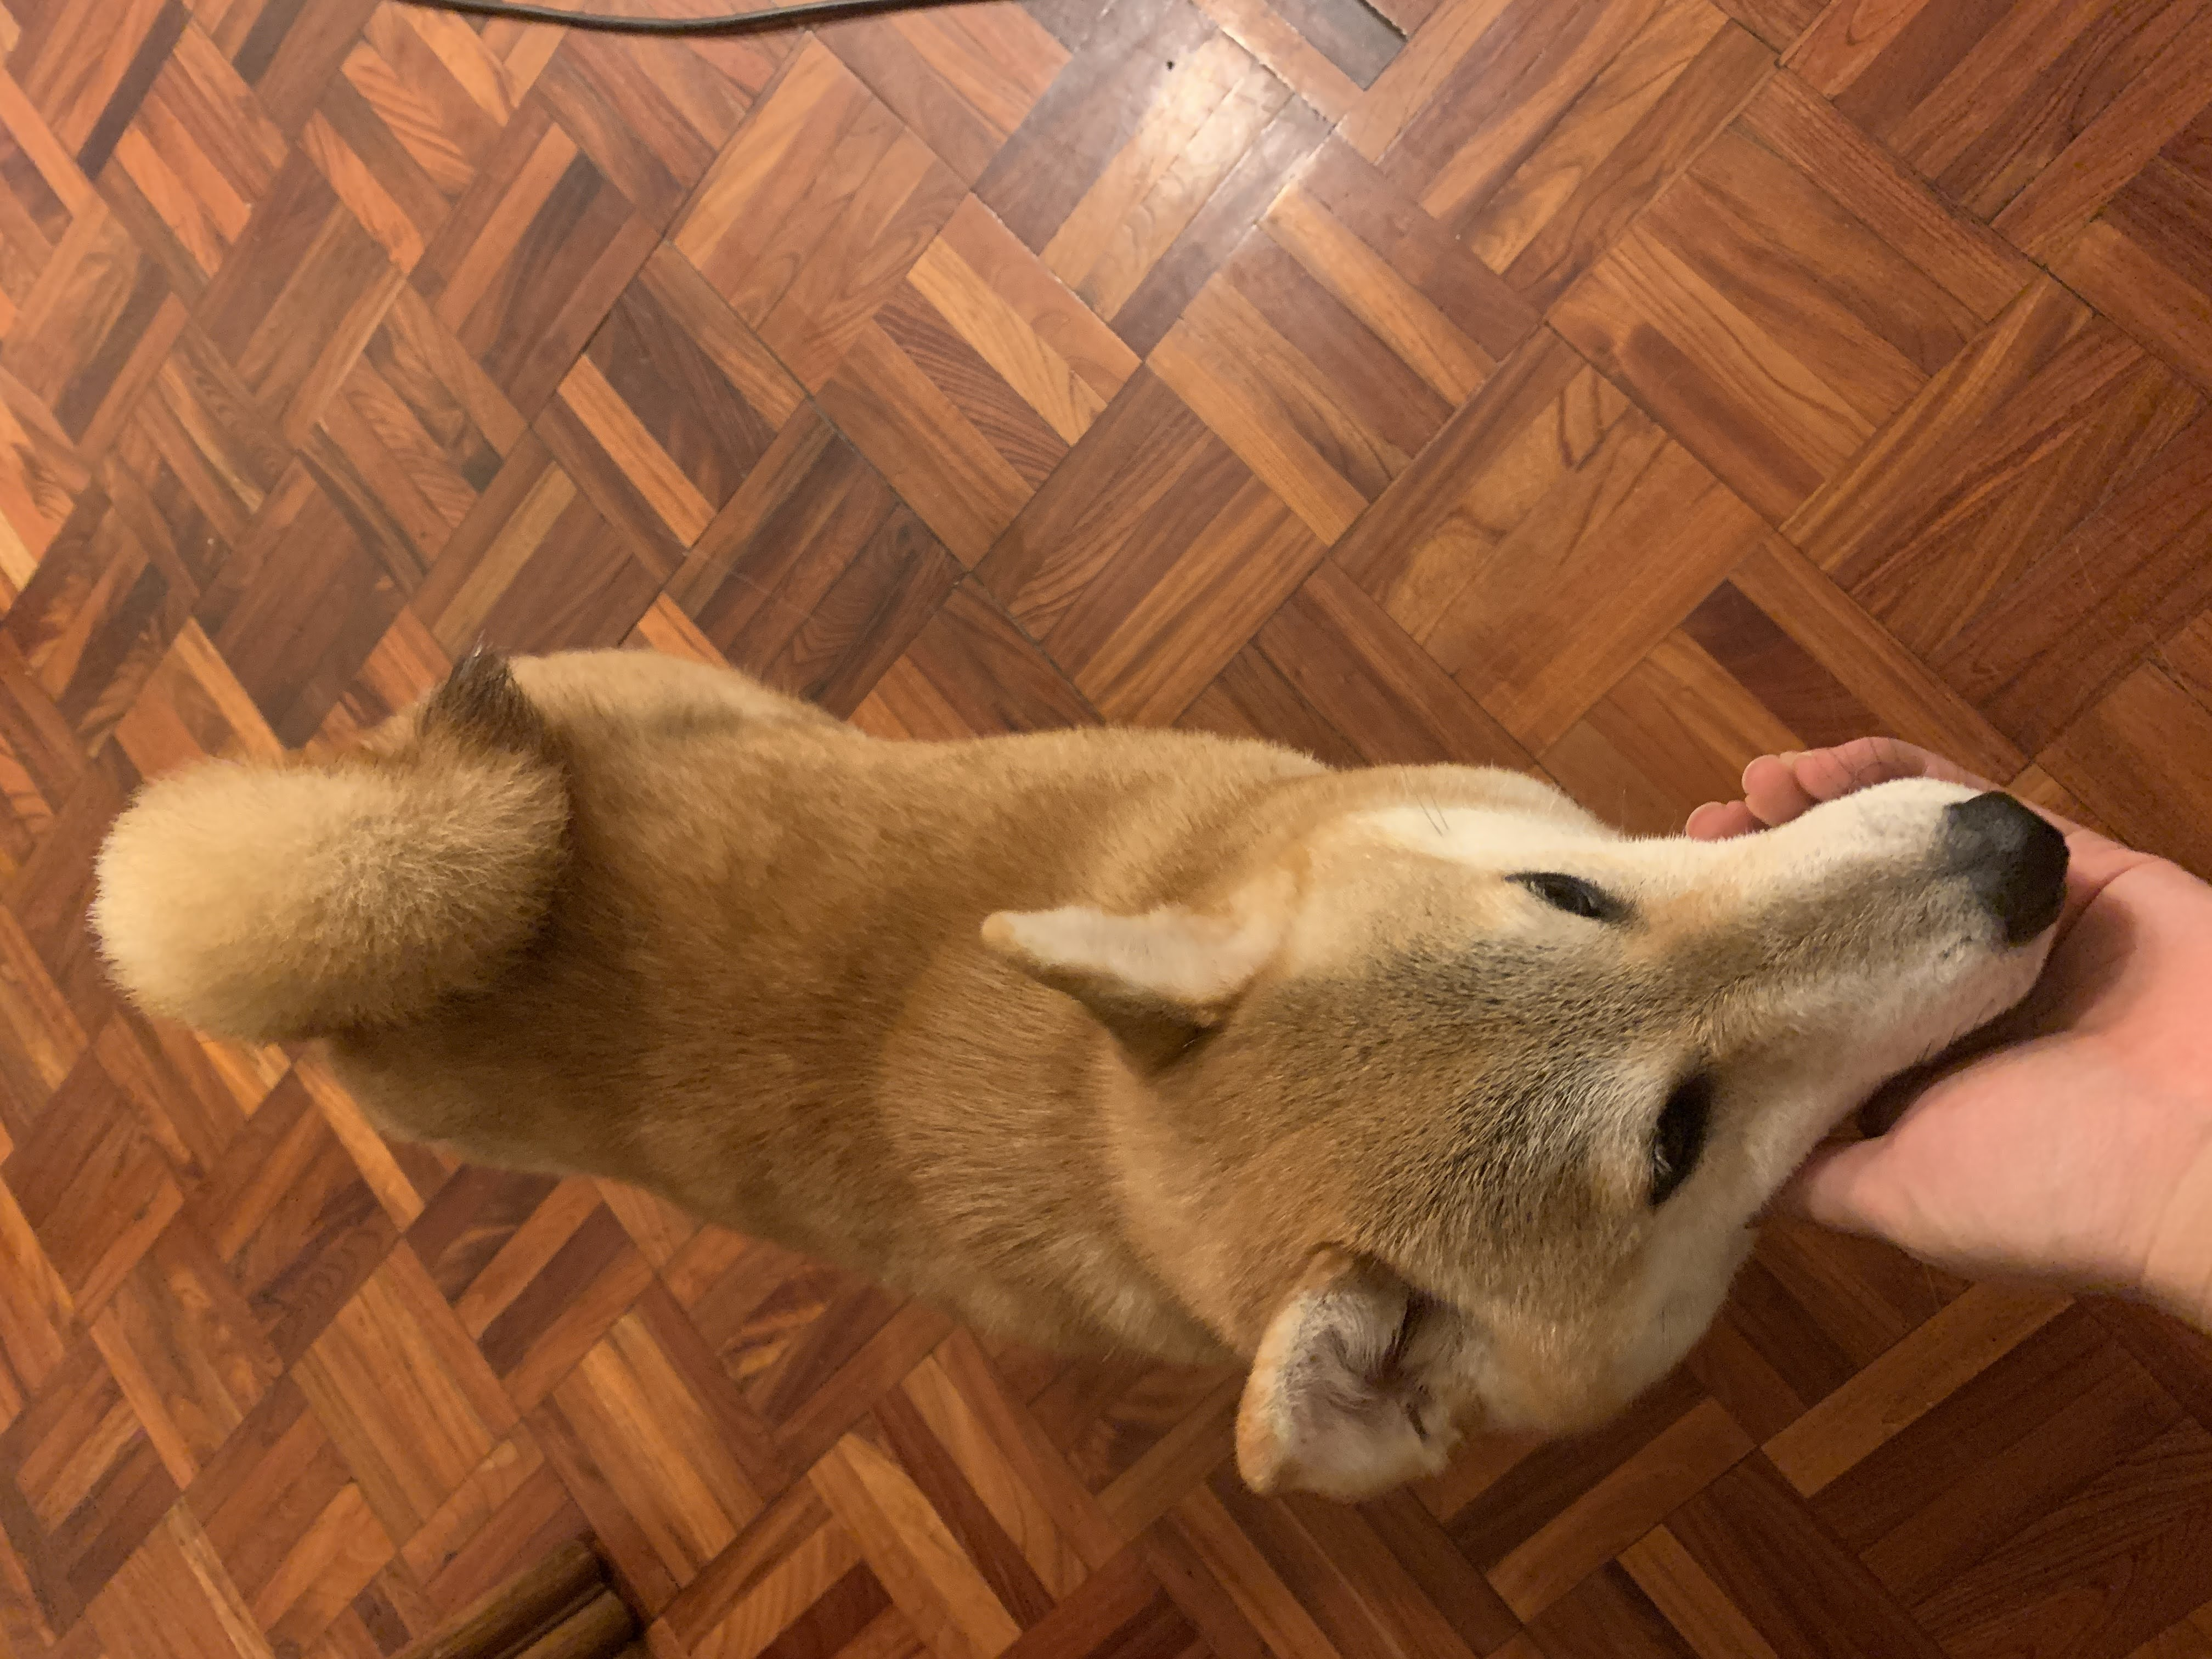Stand up: (129, 563, 2118, 1542)
